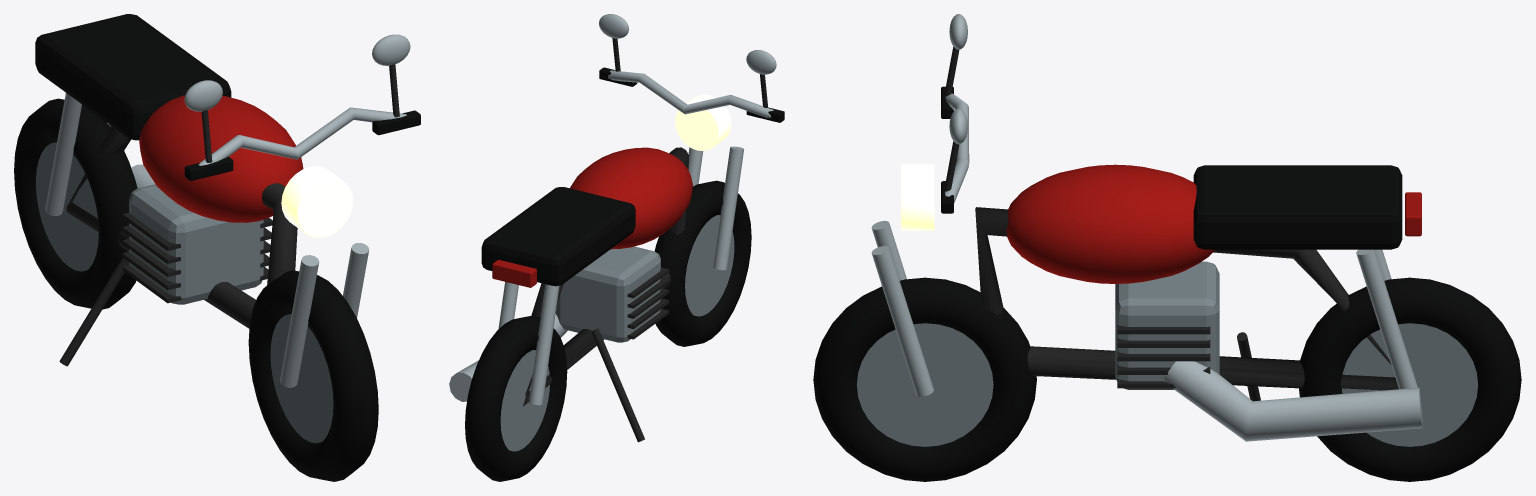
Rendered from OAA_Vehicle_Motorcycle.fbx.
3 views of the same model, side by side, from view 1: azimuth 30°, elevation 25°; view 2: azimuth 150°, elevation 25°; view 3: azimuth 270°, elevation 25° (orthographic). The views are drawn at different scales.
Parts seen in each view (by area): view 1: Body, Pivot_Roda.010_Mesh, Pivot_Roda.011_Mesh; view 2: Body, Pivot_Roda.011_Mesh, Pivot_Roda.010_Mesh; view 3: Body, Pivot_Roda.010_Mesh, Pivot_Roda.011_Mesh.
Part boxes in pixels (x1,y1,x2,y2): Body: (35,14,420,387); Pivot_Roda.010_Mesh: (248,270,378,481); Pivot_Roda.011_Mesh: (14,98,137,309); Body: (449,14,784,442); Pivot_Roda.011_Mesh: (465,315,567,481); Pivot_Roda.010_Mesh: (654,180,751,346); Body: (871,14,1422,441); Pivot_Roda.010_Mesh: (813,277,1036,481); Pivot_Roda.011_Mesh: (1299,277,1521,481).
Size of the model in its own units: 0.74 by 1.24 by 1.9.
